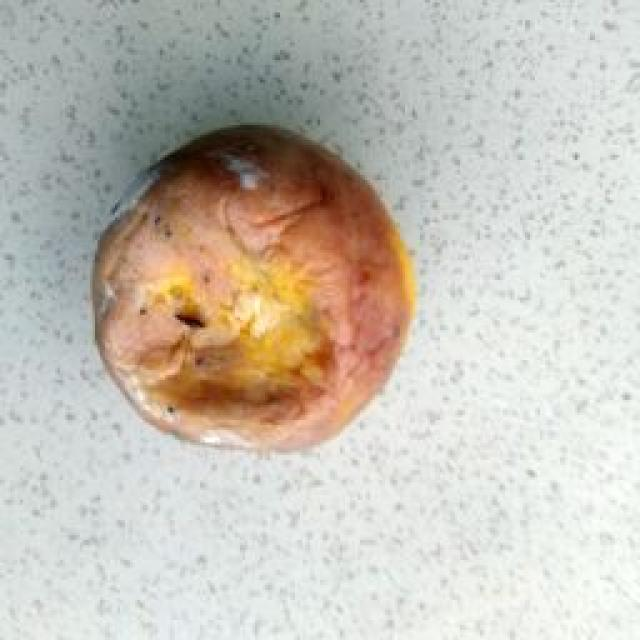Bad_Orange: (95, 126, 414, 449)
